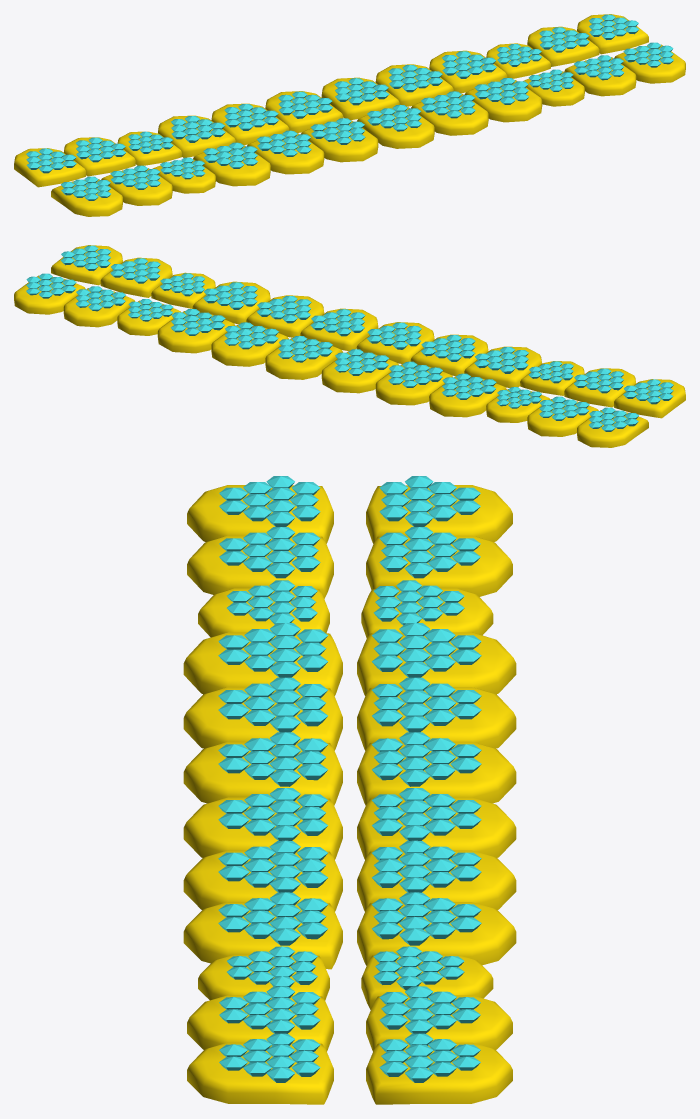
Rendered from golden teeth.fbx.
3 views of the same model, one above another, from view 1: azimuth 30°, elevation 25°; view 2: azimuth 150°, elevation 25°; view 3: azimuth 270°, elevation 25° (orthographic). The views are drawn at different scales.
Parts seen in each view (by area): view 1: Golden Teeth, Golden Teeth.007, Golden Teeth.008, Golden Teeth.012, Golden Teeth.020, Golden Teeth.019, Golden Teeth.023, Golden Teeth.018, Golden Teeth.001, Golden Teeth.010, Golden Teeth.003, Golden Teeth.005 (+12 smaller); view 2: Golden Teeth.001, Golden Teeth.002, Golden Teeth.015, Golden Teeth.003, Golden Teeth.013, Golden Teeth.014, Golden Teeth.018, Golden Teeth.023, Golden Teeth, Golden Teeth.005, Golden Teeth.010, Golden Teeth.008 (+12 smaller); view 3: Golden Teeth.006, Golden Teeth.011, Golden Teeth.012, Golden Teeth.013, Golden Teeth.008, Golden Teeth.003, Golden Teeth.014, Golden Teeth.019, Golden Teeth.015, Golden Teeth.020, Golden Teeth.001, Golden Teeth (+12 smaller).
Boxes of the visible parts, x1,y1,x2,y2 form: Golden Teeth: (357, 107, 434, 148); Golden Teeth.007: (411, 93, 488, 135); Golden Teeth.008: (464, 80, 542, 122); Golden Teeth.012: (301, 120, 378, 162); Golden Teeth.020: (193, 145, 270, 186); Golden Teeth.019: (247, 133, 324, 174); Golden Teeth.023: (51, 179, 122, 216); Golden Teeth.018: (14, 148, 85, 187); Golden Teeth.001: (321, 77, 399, 120); Golden Teeth.010: (564, 57, 636, 96); Golden Teeth.003: (429, 50, 507, 93); Golden Teeth.005: (527, 26, 599, 66); Golden Teeth.001: (265, 338, 342, 379); Golden Teeth.002: (211, 324, 288, 366); Golden Teeth.015: (429, 376, 506, 417); Golden Teeth.003: (157, 311, 235, 353); Golden Teeth.013: (321, 351, 398, 393); Golden Teeth.014: (375, 364, 452, 405); Golden Teeth.018: (577, 410, 648, 447); Golden Teeth.023: (614, 379, 685, 418); Golden Teeth: (300, 308, 378, 351); Golden Teeth.005: (63, 288, 134, 327); Golden Teeth.010: (100, 257, 172, 297); Golden Teeth.008: (192, 281, 270, 324); Golden Teeth.006: (366, 1042, 512, 1104); Golden Teeth.011: (187, 1042, 333, 1104); Golden Teeth.012: (183, 741, 342, 805); Golden Teeth.013: (357, 741, 516, 805); Golden Teeth.008: (183, 902, 342, 969); Golden Teeth.003: (357, 902, 516, 965); Golden Teeth.014: (357, 687, 516, 750); Golden Teeth.019: (183, 687, 342, 750); Golden Teeth.015: (357, 632, 516, 696); Golden Teeth.020: (183, 632, 342, 696); Golden Teeth.001: (357, 797, 516, 859); Golden Teeth: (183, 797, 342, 859).
Size of the model in its own units: 2.19 by 0.0776 by 0.5153.
